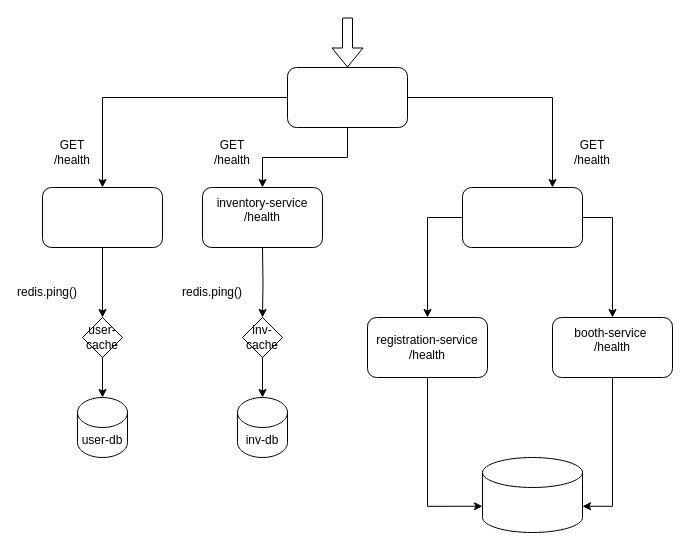
Image size: 690x550. Some labels were removed from this diagram. The centre of each missing label's shape, as x and y in pixels:
conv-db: the point at 532,494
convention-service /health: the point at 522,217
NGINX API Gateway: the point at 347,97
user-service /health: the point at 102,217
